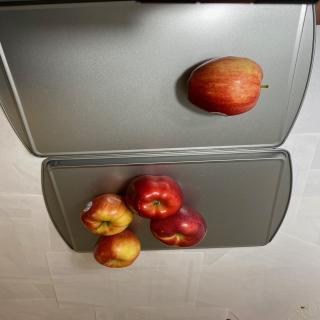Apple: (187, 56, 268, 116), (125, 174, 184, 220), (150, 205, 207, 248), (80, 193, 134, 236), (93, 229, 141, 268)
